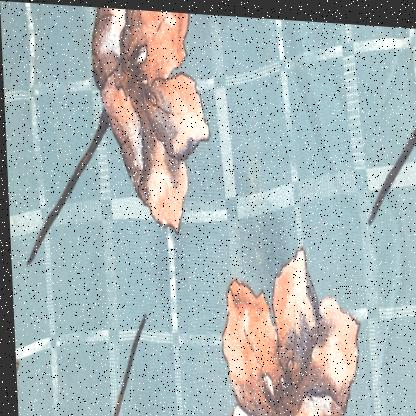spot: (248, 199, 289, 289), (228, 189, 259, 274), (240, 128, 266, 211), (62, 62, 74, 106)
